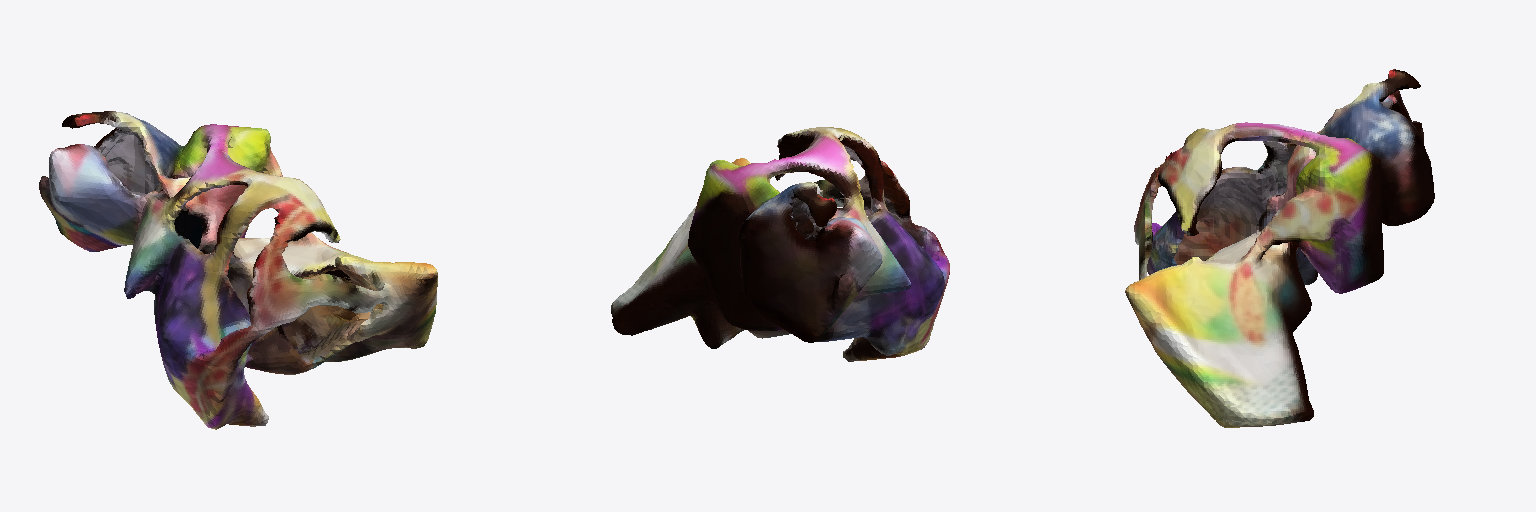
3 views of the same model, side by side, from view 1: azimuth 30°, elevation 25°; view 2: azimuth 150°, elevation 25°; view 3: azimuth 270°, elevation 25° (orthographic).
Bounding box in the file's own units: 268 × 209 × 229.
1 materials, 1 textured.